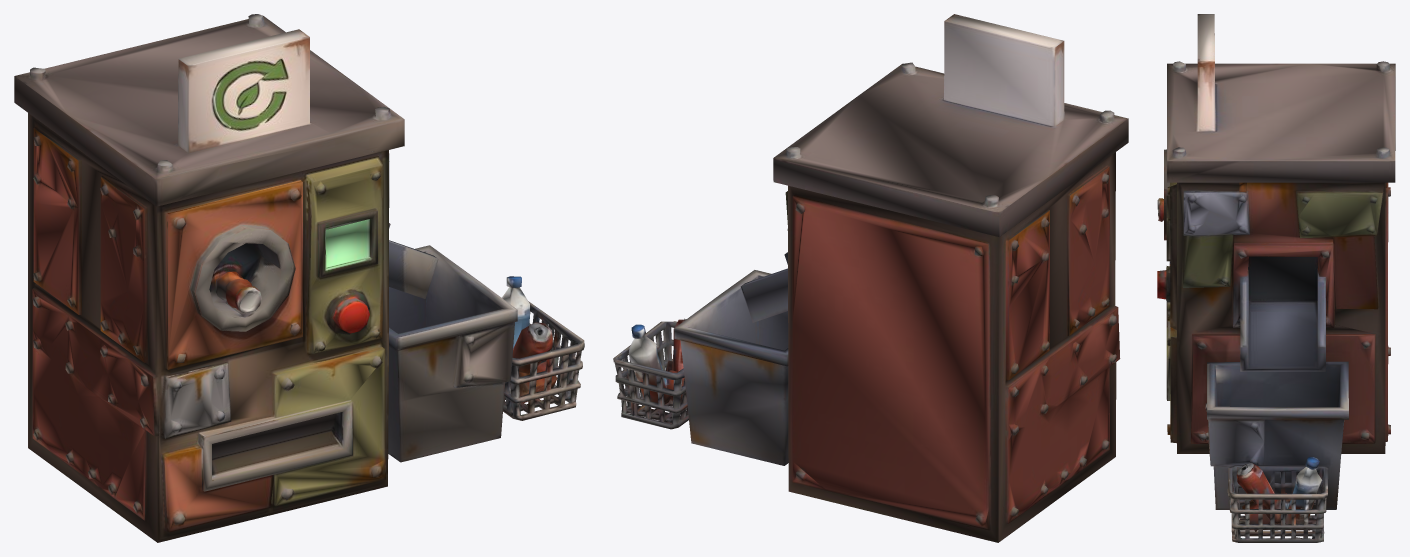
Rendered from recycle-3.glb.
3 views of the same model, side by side, from view 1: azimuth 30°, elevation 25°; view 2: azimuth 150°, elevation 25°; view 3: azimuth 270°, elevation 25° (orthographic). The views are drawn at different scales.
Visible parts, largest first — view 1: node_0; view 2: node_0; view 3: node_0.
Boxes of the visible parts, box(x1,y1,x2,y2) form: node_0: box(14, 14, 584, 542); node_0: box(613, 14, 1128, 542); node_0: box(1157, 14, 1395, 542).
Bounding box in the file's own units: 0.8415 × 0.7828 × 0.4582.
Materials: 1 (1 with a texture image).
